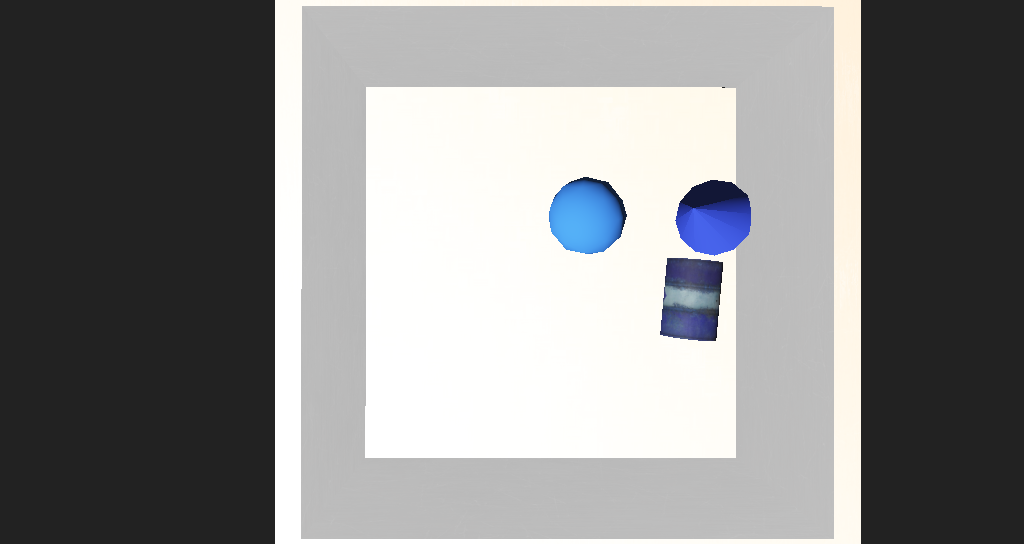cone: (593, 258, 647, 305)
cylinder: (583, 208, 684, 260)
sphere: (499, 217, 566, 260)
